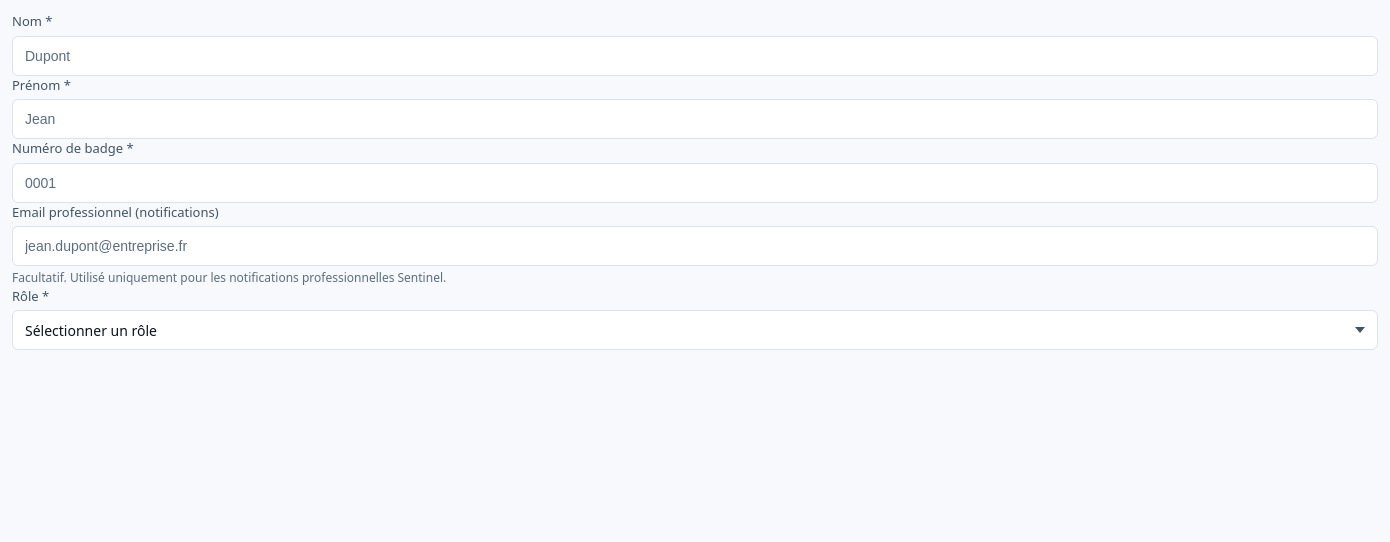
Test case: UserForm — rôles attribuables (RC5-8) › ne propose que les trois rôles humains standards
Click the dropdown labelled "rôle": (91,330) x1=12 y1=310 x2=1378 y2=350
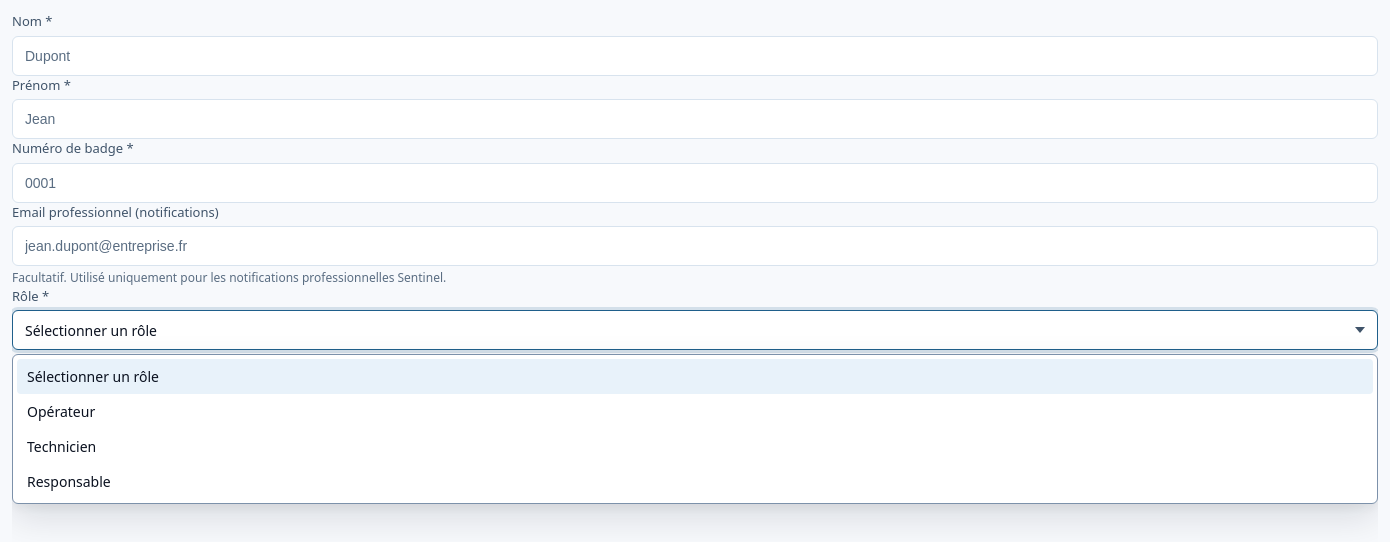
expect the option "Opérateur" is shown: met, box x1=17 y1=394 x2=1373 y2=429
expect the option "Technicien" is shown: met, box x1=17 y1=429 x2=1373 y2=464
expect the option "Responsable" is shown: met, box x1=17 y1=464 x2=1373 y2=499
